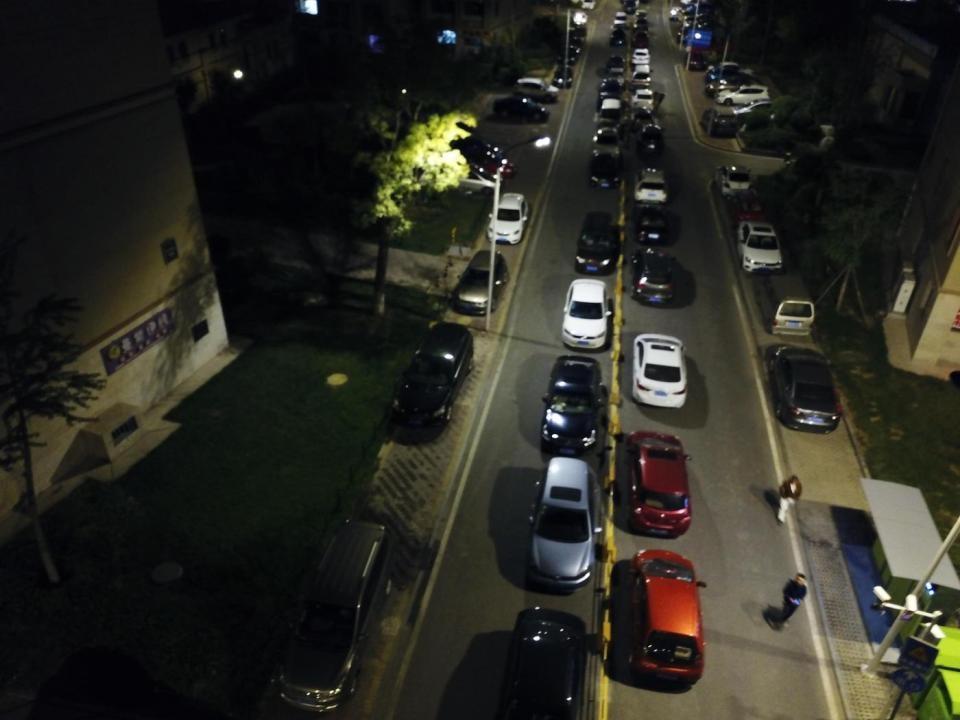car: (279, 518, 392, 715), (484, 605, 588, 720), (626, 547, 706, 686), (526, 456, 604, 590), (393, 319, 479, 425), (624, 426, 696, 539), (768, 341, 842, 435), (540, 354, 608, 454), (630, 331, 688, 409), (450, 247, 507, 317), (561, 276, 613, 349), (573, 207, 622, 276), (630, 241, 681, 305), (444, 124, 510, 166), (734, 218, 783, 274), (485, 190, 532, 246), (426, 162, 502, 196), (488, 90, 551, 126), (630, 196, 671, 245), (724, 186, 767, 224), (703, 63, 764, 89), (701, 58, 762, 84), (733, 97, 791, 124), (633, 164, 669, 207), (446, 158, 517, 179), (715, 82, 772, 108), (704, 74, 764, 98), (712, 162, 753, 196), (512, 74, 560, 102), (590, 151, 623, 189), (699, 104, 740, 134), (640, 124, 669, 159), (591, 123, 621, 155), (685, 43, 710, 72), (630, 104, 659, 128), (552, 59, 574, 90), (630, 89, 658, 113), (598, 76, 624, 100), (674, 28, 713, 43), (630, 63, 654, 86), (558, 43, 582, 65), (684, 19, 719, 34), (606, 54, 626, 75), (632, 47, 651, 66), (681, 3, 708, 16), (610, 27, 628, 46), (633, 29, 651, 48), (683, 12, 711, 24), (572, 25, 588, 43), (612, 10, 628, 26), (669, 5, 684, 20), (632, 16, 648, 30), (573, 10, 589, 24), (625, 0, 638, 15), (635, 9, 649, 20), (582, 0, 595, 10)
van: (756, 265, 815, 338), (596, 99, 622, 128)
